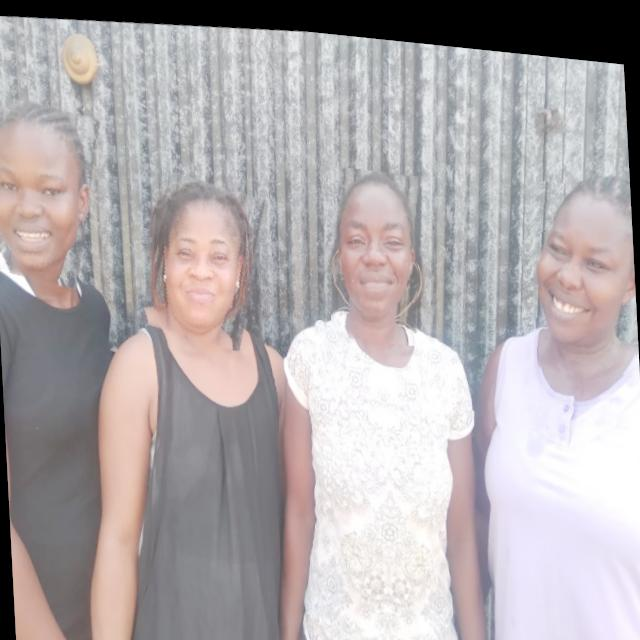happy: (141, 166, 267, 349), (526, 164, 640, 366), (0, 96, 100, 290), (326, 156, 426, 342)
